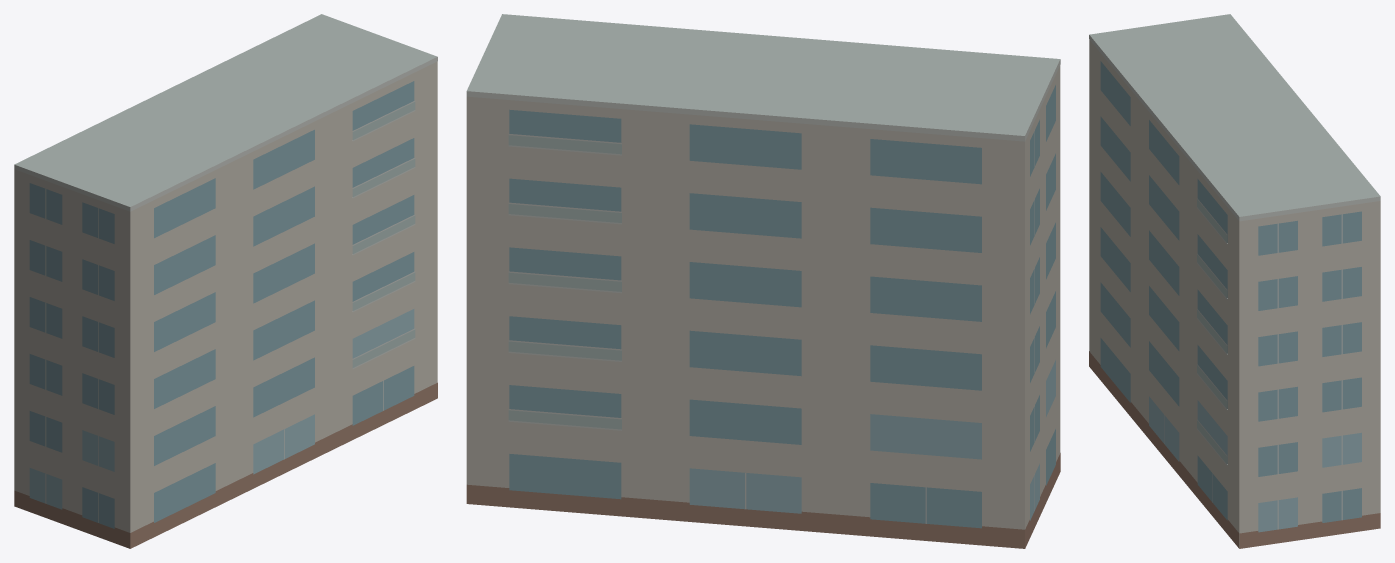
Rendered from survey-upis-32753593.glb.
3 renders of one model, left to right at view 1: azimuth 30°, elevation 25°; view 2: azimuth 150°, elevation 25°; view 3: azimuth 270°, elevation 25°, orthographic. The views are drawn at different scales.
Parts seen in each view (by area): view 1: survey-upis-32753593.tmp; view 2: survey-upis-32753593.tmp; view 3: survey-upis-32753593.tmp.
Boxes of the visible parts, bbox=[...] form: survey-upis-32753593.tmp: bbox=[14, 14, 437, 548]; survey-upis-32753593.tmp: bbox=[466, 14, 1060, 548]; survey-upis-32753593.tmp: bbox=[1089, 14, 1380, 548].
Bounding box in the file's own units: 24.01 × 18.3 × 14.58.
